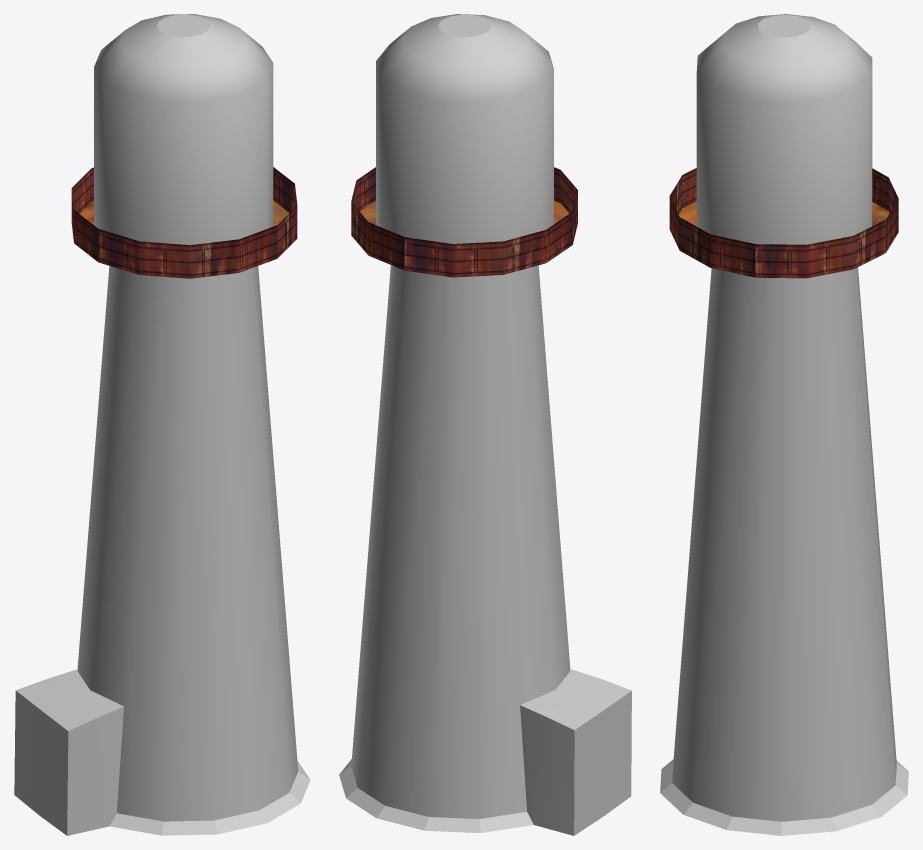
Rendered from doc_lighthouse.FBX.
3 views of the same model, side by side, from view 1: azimuth 30°, elevation 25°; view 2: azimuth 150°, elevation 25°; view 3: azimuth 270°, elevation 25° (orthographic).
Visible parts, largest first — view 1: lighthouse, Cylinder034; view 2: lighthouse, Cylinder034; view 3: lighthouse, Cylinder034.
Boxes of the visible parts, x1,y1,x2,y2 form: lighthouse: (14, 14, 310, 835); Cylinder034: (71, 167, 297, 278); lighthouse: (339, 14, 631, 835); Cylinder034: (351, 167, 577, 277); lighthouse: (660, 14, 908, 835); Cylinder034: (669, 168, 898, 278).
Size of the model in its own units: 710 by 2042 by 609.
